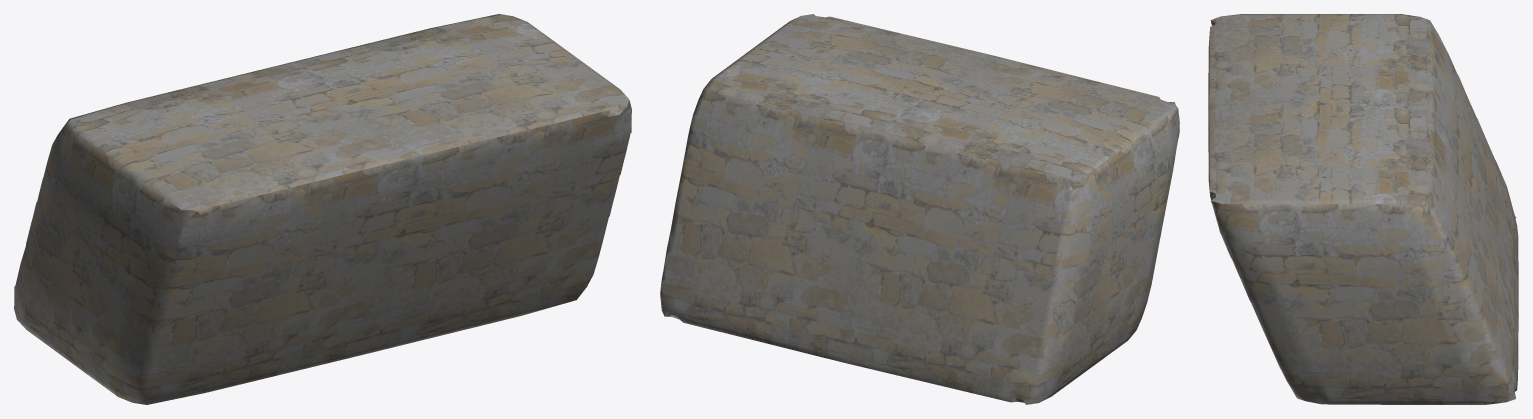
File: Wall.glb
3 views of the same model, side by side, from view 1: azimuth 30°, elevation 25°; view 2: azimuth 150°, elevation 25°; view 3: azimuth 270°, elevation 25° (orthographic). The views are drawn at different scales.
Visible parts, largest first — view 1: Wall; view 2: Wall; view 3: Wall.
Part boxes in pixels (left/top/right/bottom): Wall: left=14, top=14, right=631, bottom=404; Wall: left=660, top=14, right=1179, bottom=404; Wall: left=1208, top=14, right=1518, bottom=404.
Bounding box in the file's own units: 9.99 × 4.99 × 6.54.
Materials: 1 (1 with a texture image).
